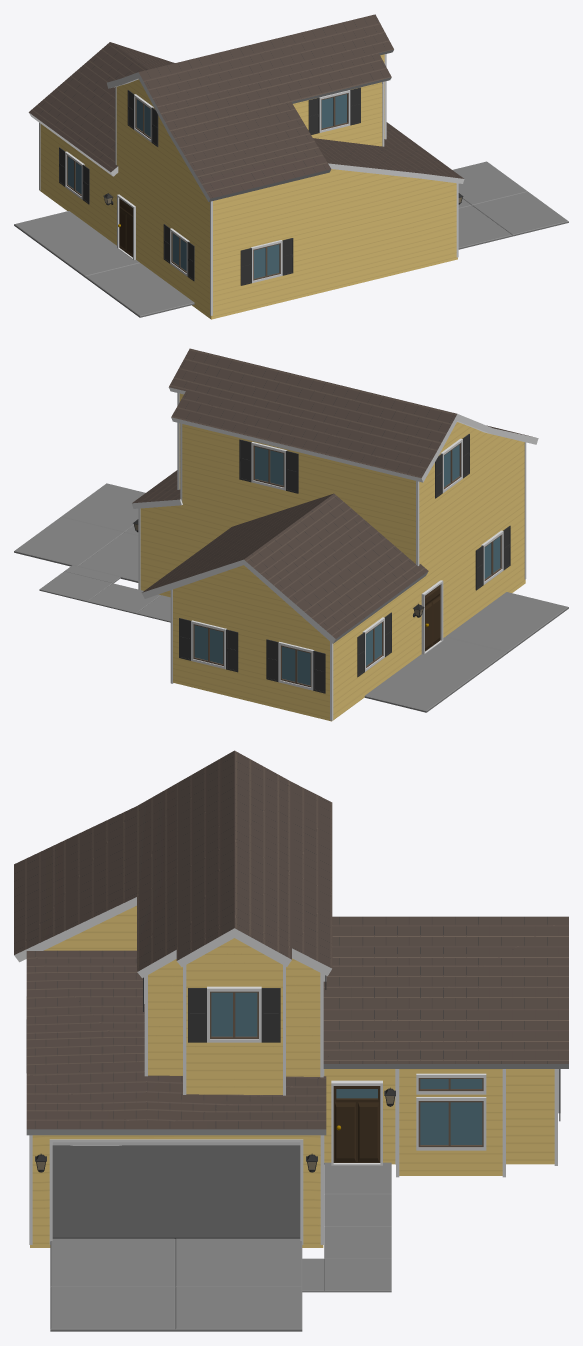
File: LargeHouse_02_Garage.fbx
The picture shows the model from 3 angles, top to bottom: view 1: azimuth 30°, elevation 25°; view 2: azimuth 150°, elevation 25°; view 3: azimuth 270°, elevation 25°; orthographic projection. The views are drawn at different scales.
Visible parts, largest first — view 1: House_03_Garage; view 2: House_03_Garage; view 3: House_03_Garage.
Part boxes in pixels (x1,y1,x2,y2): House_03_Garage: (14,14,568,319); House_03_Garage: (14,348,568,721); House_03_Garage: (14,750,568,1331).
Size of the model in its own units: 63.05 by 28.8 by 47.04.
